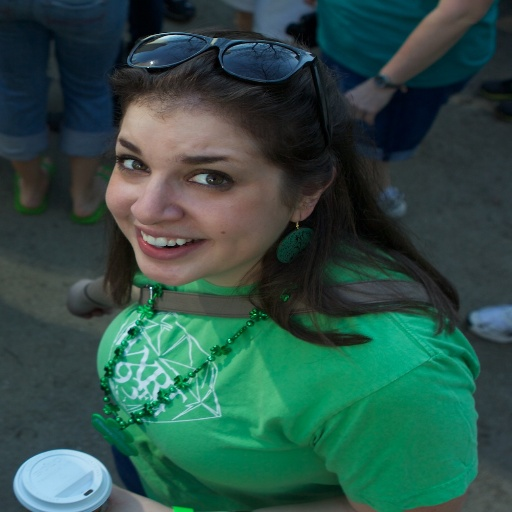hand: (341, 78, 397, 124), (96, 482, 172, 511)
